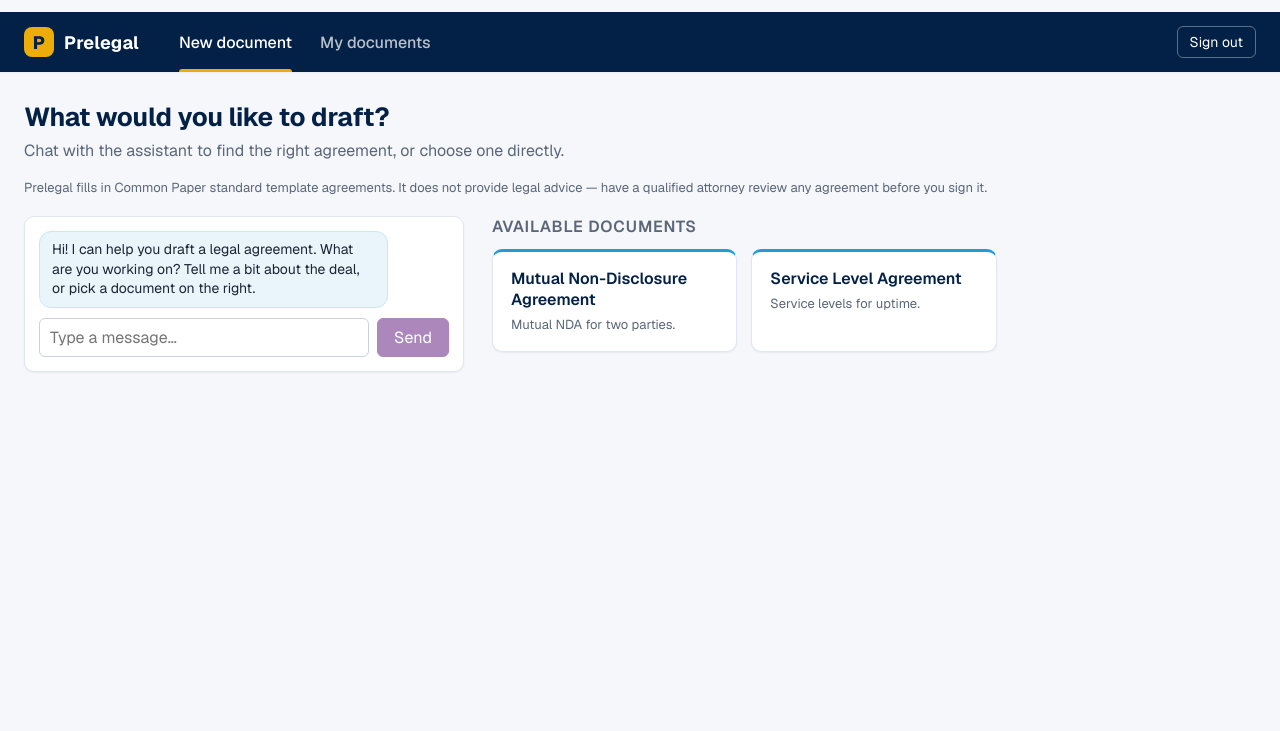
Home: choosing a document › clicking the Mutual NDA card opens the bespoke NDA creator
Click the button "Mutual Non-Disclosure Agreement Mutual NDA for two parties.": (615, 300) top-left (492, 249), bottom-right (737, 352)
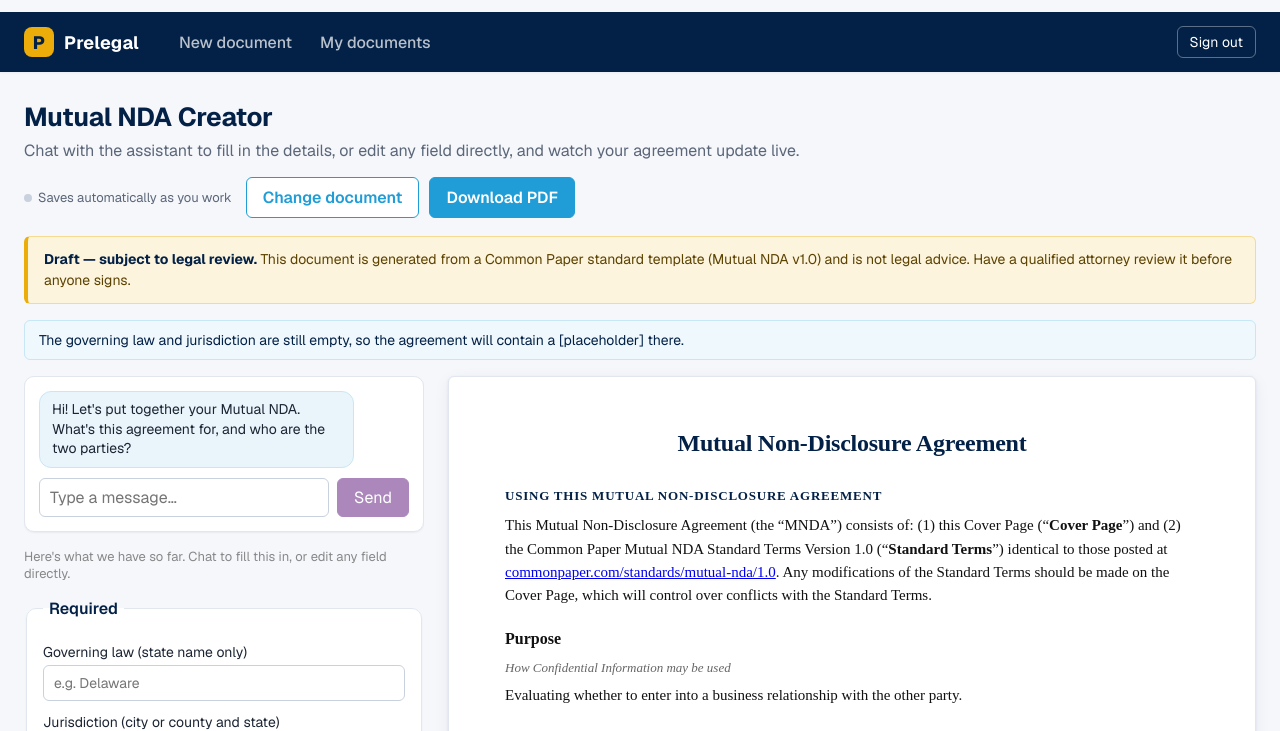
Check: the heading "Mutual NDA Creator" is shown, box top-left (24, 100), bottom-right (273, 134)
